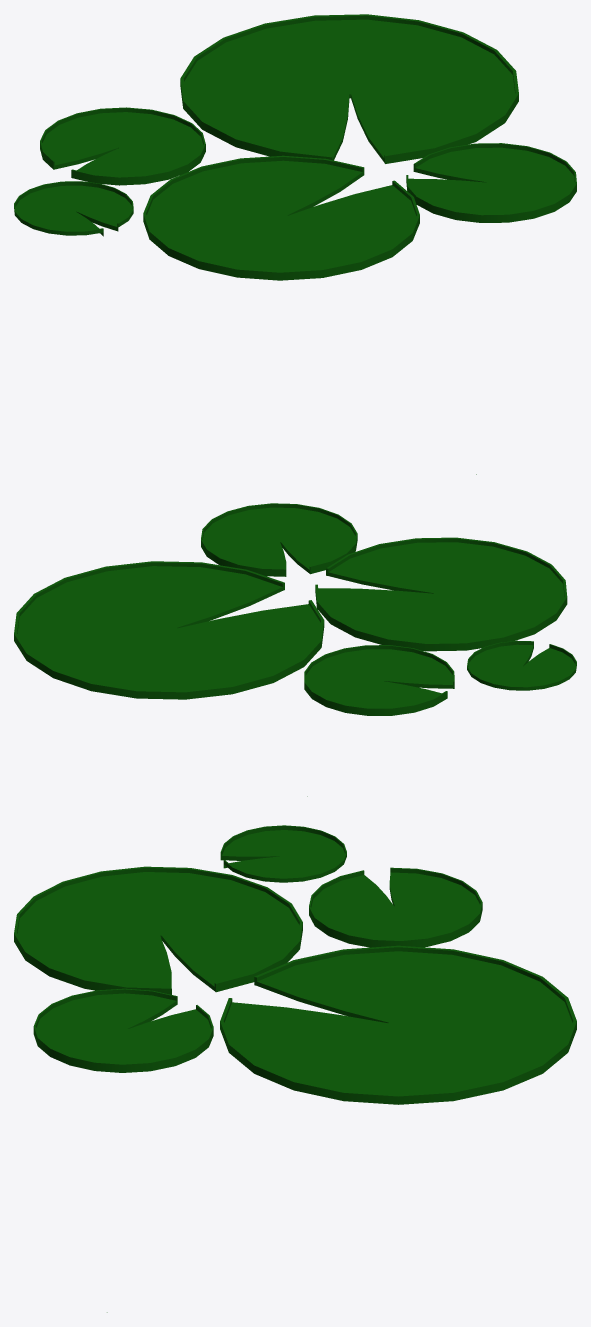
The model's file is lilypad2.glb.
The picture shows the model from 3 angles, top to bottom: view 1: azimuth 30°, elevation 25°; view 2: azimuth 150°, elevation 25°; view 3: azimuth 270°, elevation 25°; orthographic projection. The views are drawn at different scales.
Visible parts, largest first — view 1: Object_2.033; view 2: Object_2.033; view 3: Object_2.033.
Boxes of the visible parts, x1,y1,x2,y2 form: Object_2.033: (14,14,576,474); Object_2.033: (14,503,576,796); Object_2.033: (14,825,576,1312).
Size of the model in its own units: 4.54 by 2.32 by 3.98.
Materials: 1 (1 with a texture image).
